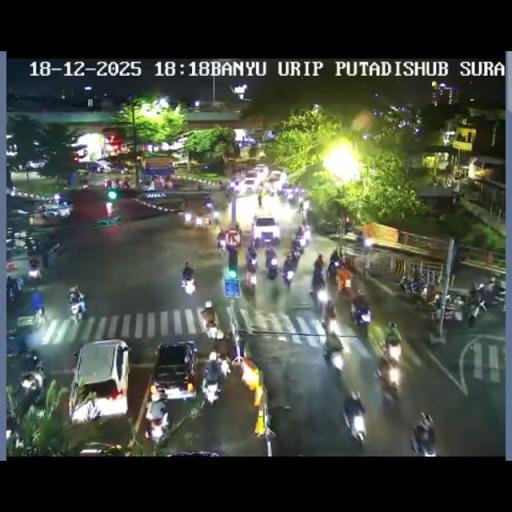Car: (68, 339, 130, 425), (148, 341, 198, 403), (250, 215, 280, 244), (78, 158, 128, 174), (38, 199, 74, 220), (72, 441, 124, 455), (236, 177, 260, 194), (266, 170, 284, 187), (171, 158, 194, 168), (254, 163, 268, 178)
Motorcycle: (250, 235, 309, 290), (13, 370, 45, 418), (343, 402, 368, 443), (321, 326, 343, 370), (434, 294, 464, 326), (376, 364, 399, 402), (410, 424, 436, 455), (396, 274, 430, 297), (146, 416, 172, 446), (200, 372, 222, 405), (16, 348, 42, 374), (466, 294, 486, 324), (68, 293, 87, 322), (350, 301, 372, 326), (384, 334, 402, 364), (5, 407, 19, 444), (322, 301, 338, 333), (488, 278, 506, 305), (422, 284, 444, 306), (31, 291, 46, 323), (244, 264, 258, 294), (233, 332, 247, 362), (204, 319, 222, 340), (217, 352, 231, 378), (28, 261, 42, 286), (312, 270, 326, 294), (181, 274, 196, 296), (336, 269, 351, 291), (280, 266, 294, 289), (25, 236, 40, 257), (270, 280, 282, 306), (290, 236, 304, 258), (246, 244, 258, 269), (201, 299, 215, 320), (326, 260, 340, 280), (266, 257, 278, 278), (298, 225, 310, 244), (300, 200, 310, 222), (49, 242, 64, 256), (357, 233, 368, 251), (216, 239, 226, 258), (6, 283, 15, 303), (226, 179, 238, 194), (194, 211, 204, 227), (286, 193, 296, 208), (203, 196, 213, 211), (268, 185, 278, 197), (105, 201, 113, 216), (183, 210, 192, 223), (16, 277, 24, 291), (476, 280, 486, 290), (212, 212, 219, 225), (234, 222, 241, 234), (122, 180, 130, 190), (257, 193, 262, 208), (9, 186, 16, 196), (224, 189, 230, 199), (106, 179, 112, 189), (117, 178, 122, 189), (82, 182, 88, 190)
